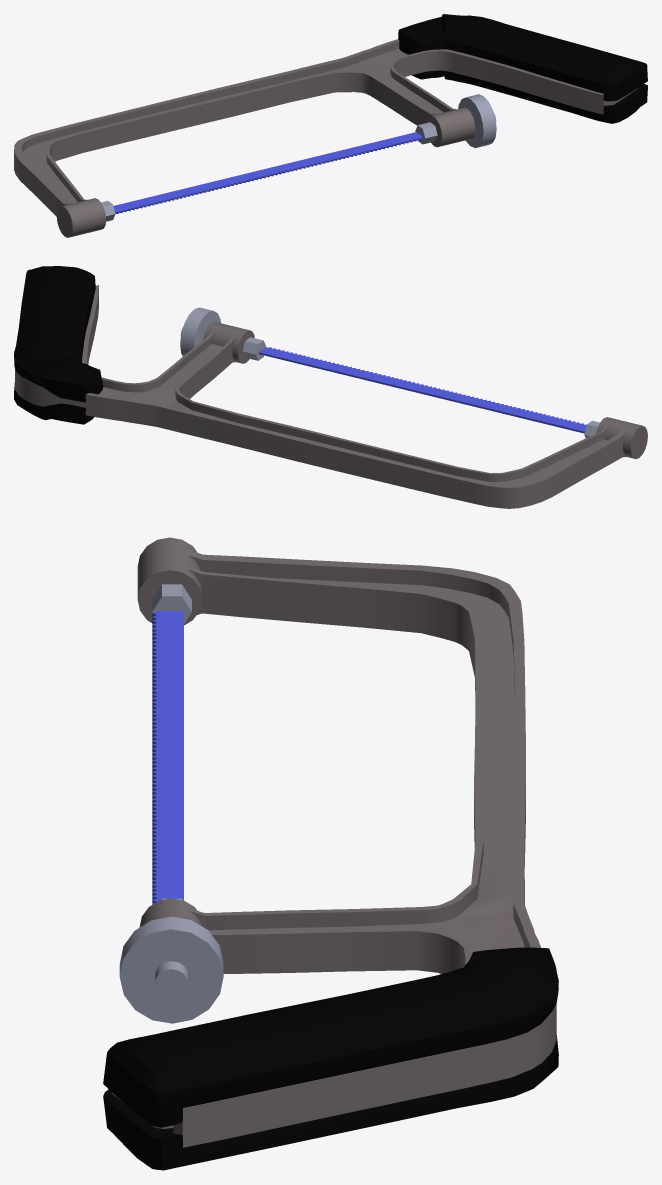
File: Gergaji Besi_LP.fbx
3 views of the same model, one above another, from view 1: azimuth 30°, elevation 25°; view 2: azimuth 150°, elevation 25°; view 3: azimuth 270°, elevation 25° (orthographic). The views are drawn at different scales.
Parts seen in each view (by area): view 1: Gergaji Besi_LP; view 2: Gergaji Besi_LP; view 3: Gergaji Besi_LP.
Part boxes in pixels (x1,y1,x2,y2): Gergaji Besi_LP: [14, 14, 647, 237]; Gergaji Besi_LP: [14, 266, 647, 508]; Gergaji Besi_LP: [103, 537, 558, 1170].
Bounding box in the file's own units: 47.96 × 4.56 × 16.29.
